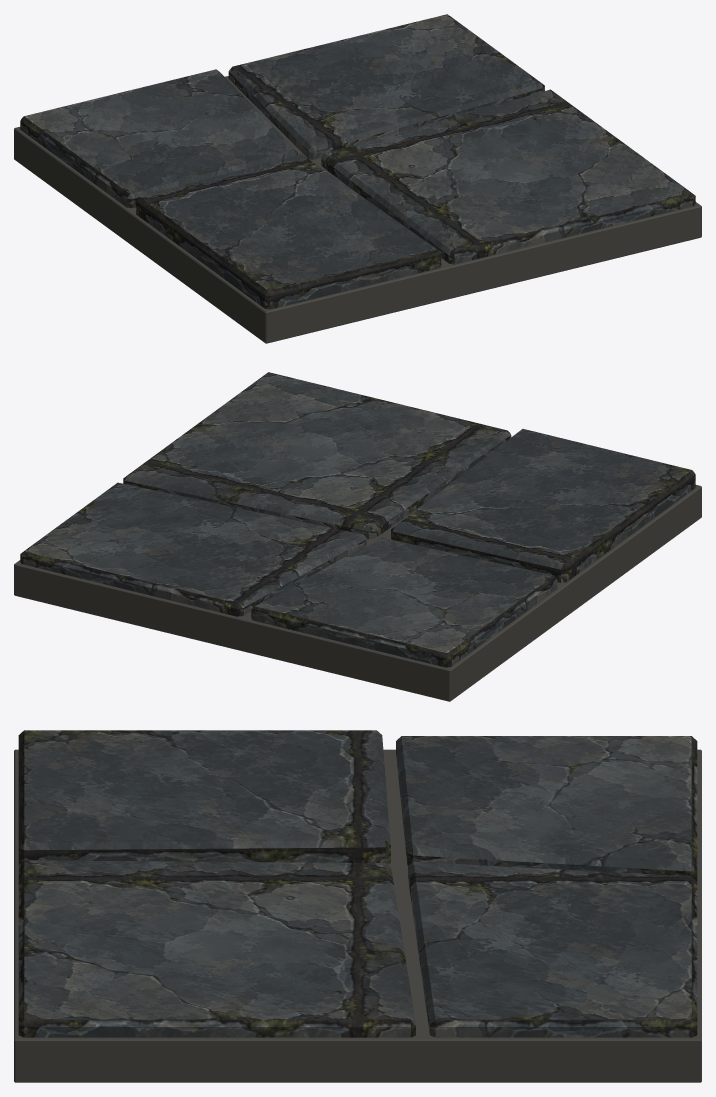
File: floor_stone_b.glb
The picture shows the model from 3 angles, top to bottom: view 1: azimuth 30°, elevation 25°; view 2: azimuth 150°, elevation 25°; view 3: azimuth 270°, elevation 25°; orthographic projection. The views are drawn at different scales.
Parts seen in each view (by area): view 1: floor_stone_b; view 2: floor_stone_b; view 3: floor_stone_b.
Part boxes in pixels (x1=…): floor_stone_b: x1=14, y1=14, x2=701, y2=343; floor_stone_b: x1=14, y1=372, x2=701, y2=701; floor_stone_b: x1=14, y1=730, x2=701, y2=1082.
Size of the model in its own units: 1 by 0.1072 by 1.
2 materials, 1 textured.
